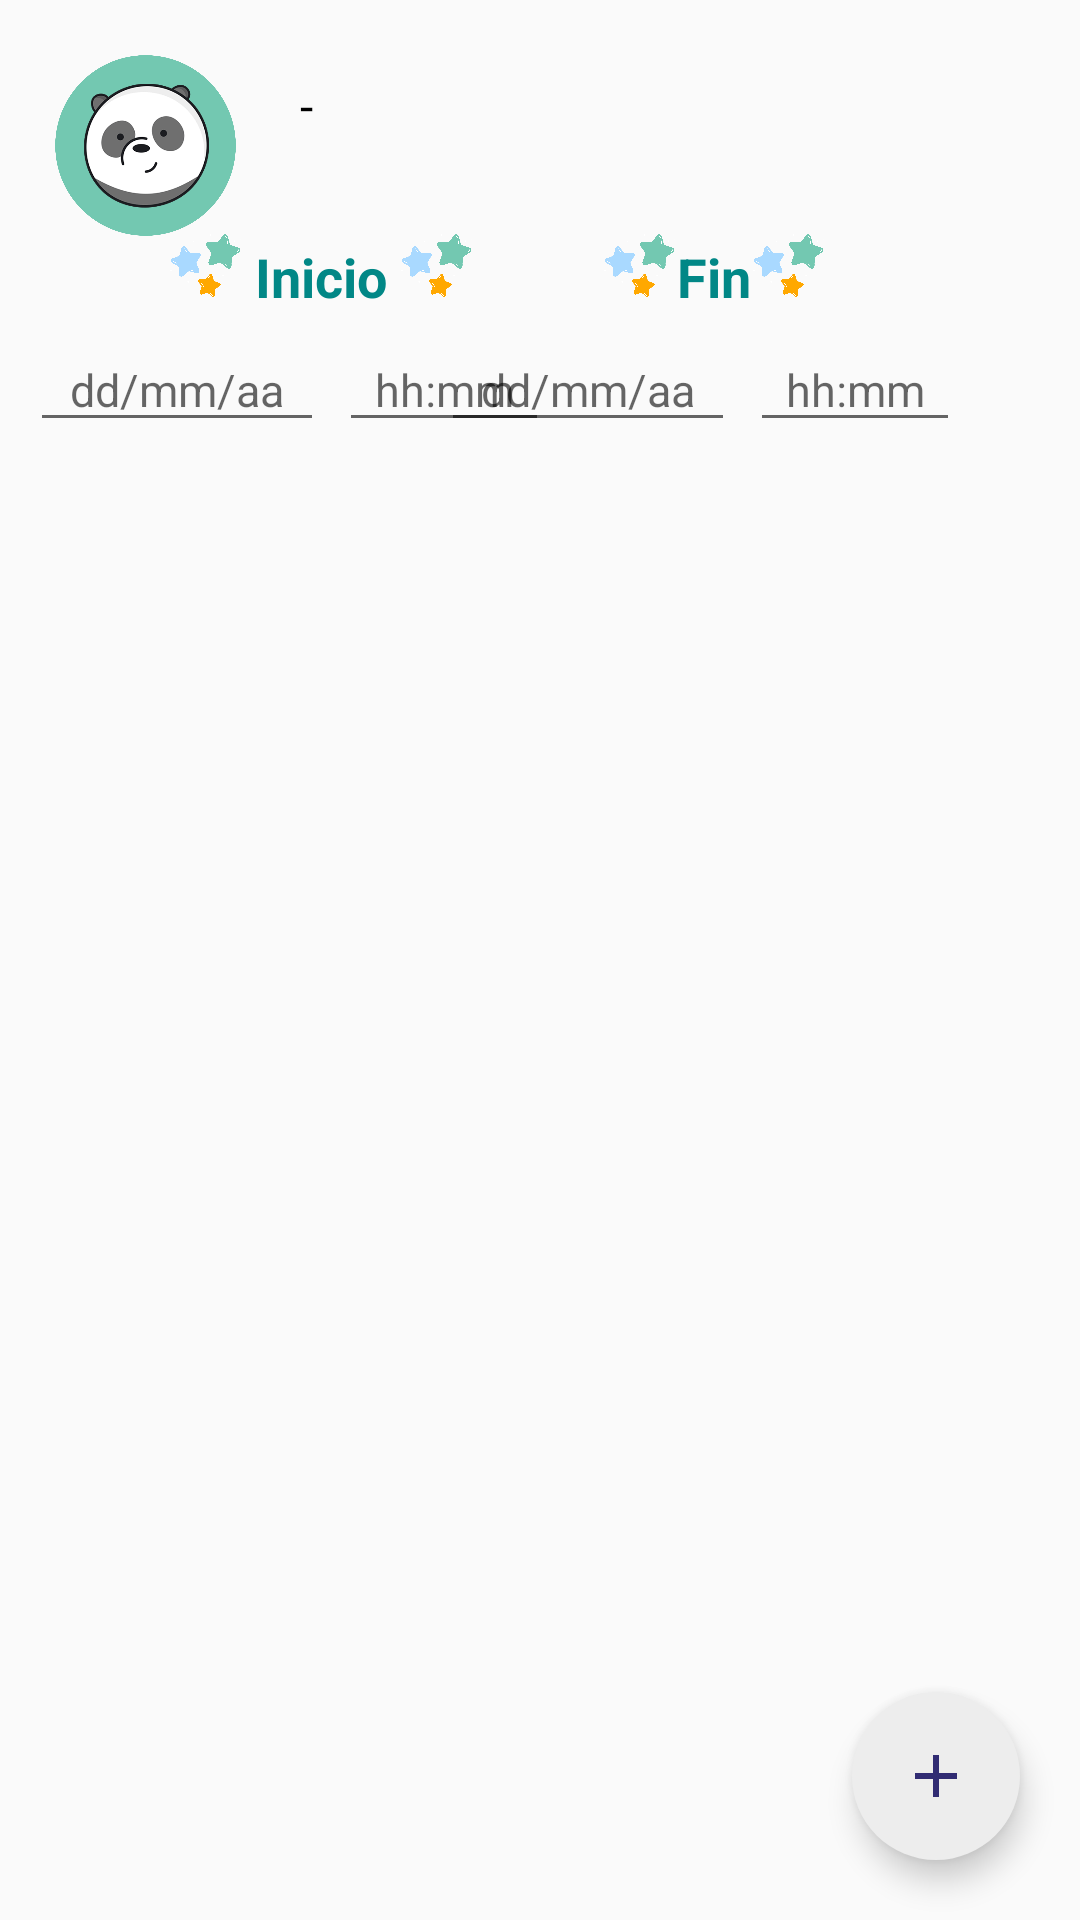

Where to tap for icons on this 1080 × 1920 app screen, as [x,y]:
add: [936,1776]
estrellitas: [205,265], [436,265], [639,265], [788,265]
